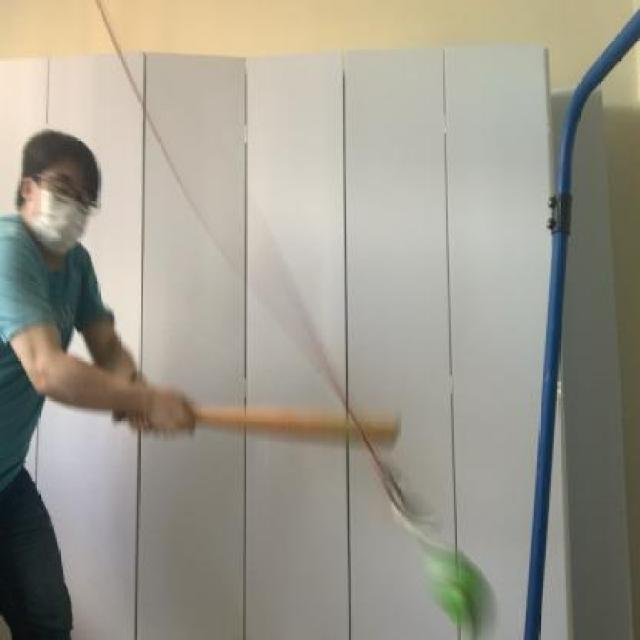baseball: (409, 540, 506, 640)
